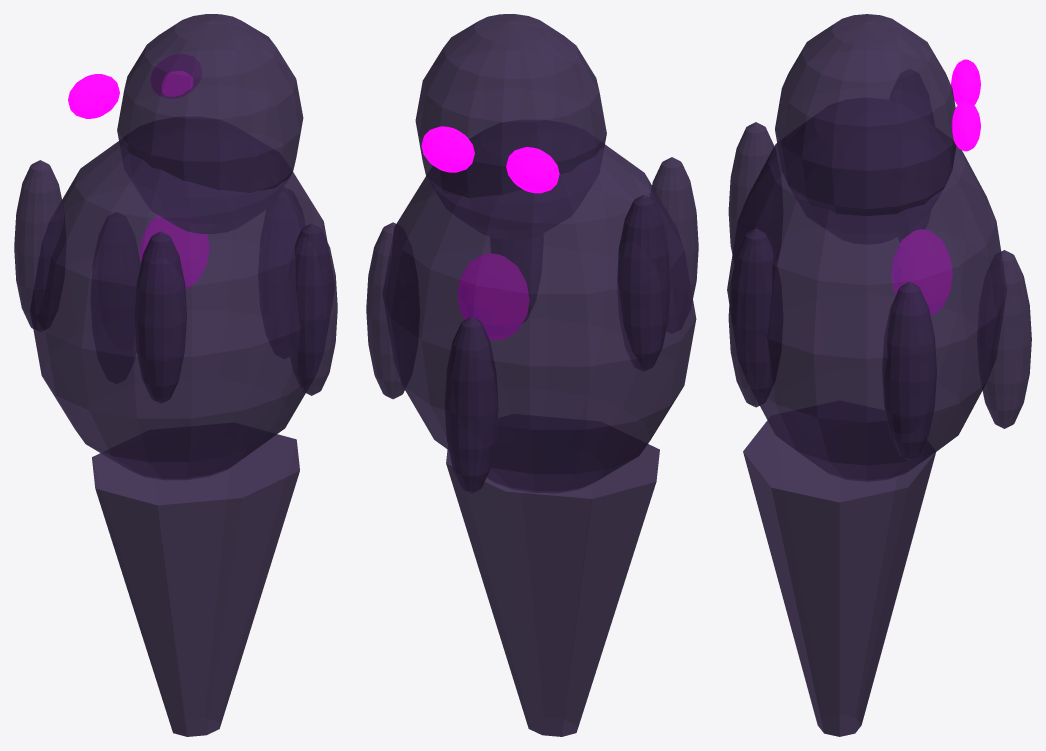
The model's file is shadow.glb.
The picture shows the model from 3 angles, left to right: view 1: azimuth 30°, elevation 25°; view 2: azimuth 150°, elevation 25°; view 3: azimuth 270°, elevation 25°; orthographic projection. The views are drawn at different scales.
Visible parts, largest first — view 1: shadow; view 2: shadow; view 3: shadow.
Part boxes in pixels (x1=…): shadow: x1=14, y1=14, x2=337, y2=736; shadow: x1=366, y1=14, x2=698, y2=736; shadow: x1=727, y1=14, x2=1031, y2=736.
Bounding box in the file's own units: 0.6326 × 1.44 × 0.555.
